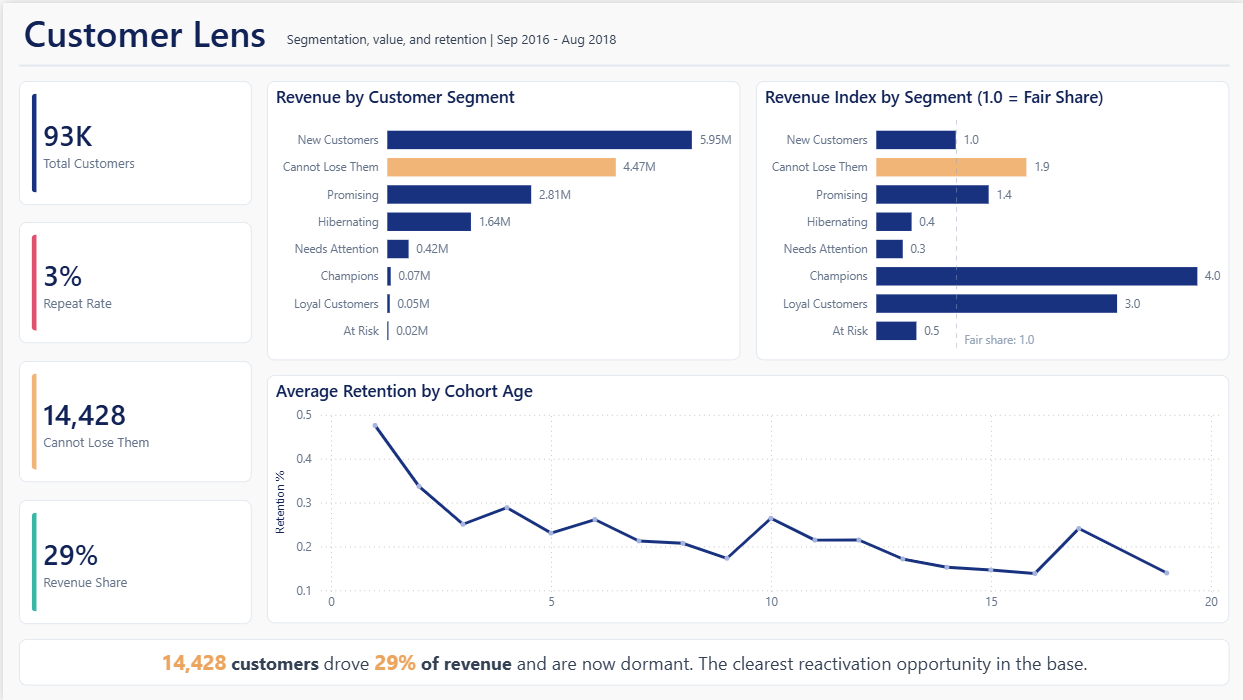

What the dashboard file says about the page in this screenshot:
{"tool":"powerbi","page":{"name":"Customer Lens","canvas":[1280,720],"ordinal":1},"visuals":[{"type":"textbox","box":[16,0,272,64],"z":0},{"type":"textbox","box":[288,24,448,32],"z":1000},{"type":"shape","box":[16,48,1248,32],"z":2000},{"type":"cardVisual","fields":{"Data":["Sum(agg_marketplace_kpis.Total Customers)"]},"box":[16,80,240,128],"z":3000},{"type":"cardVisual","fields":{"Data":["All Measures.CLT Revenue Share"]},"box":[16,512,240,128],"z":4000},{"type":"cardVisual","fields":{"Data":["All Measures.Repeat Rate Display"]},"box":[16,226,240,125],"z":5000},{"type":"cardVisual","fields":{"Data":["Sum(agg_segment_clv.Customers)"]},"box":[16,369,240,125],"z":6000},{"type":"clusteredBarChart","title":"Revenue by Customer Segment","fields":{"Category":["agg_segment_clv.Segment"],"Y":["Sum(agg_segment_clv.Total Revenue)"]},"box":[272,80,488,288],"z":7000},{"type":"clusteredBarChart","title":"Revenue Index by Segment (1.0 = Fair Share)","fields":{"Category":["agg_segment_clv.Segment"],"Y":["Sum(agg_segment_clv.Revenue Index)"]},"box":[776,80,488,288],"z":8000},{"type":"lineChart","title":"Average Retention by Cohort Age","fields":{"Category":["cohort_retention_long.Months Since First"],"Y":["Avg(cohort_retention_long.Retention)"]},"box":[272,384,992,256],"z":9000},{"type":"textbox","box":[16,656,1248,48],"z":10000}]}

Visuals, with their boxes in screenshot pixels (x1, y1, x2, y2), scaled from the page's 1280x720 canvas onto the 1243x700 screenshot:
textbox: box(16, 0, 280, 62)
textbox: box(280, 23, 715, 54)
shape: box(16, 47, 1227, 78)
cardVisual - Sum(agg_marketplace_kpis.Total Customers): box(16, 78, 249, 202)
cardVisual - All Measures.CLT Revenue Share: box(16, 498, 249, 622)
cardVisual - All Measures.Repeat Rate Display: box(16, 220, 249, 341)
cardVisual - Sum(agg_segment_clv.Customers): box(16, 359, 249, 480)
"Revenue by Customer Segment" clusteredBarChart: box(264, 78, 738, 358)
"Revenue Index by Segment (1.0 = Fair Share)" clusteredBarChart: box(754, 78, 1227, 358)
"Average Retention by Cohort Age" lineChart: box(264, 373, 1227, 622)
textbox: box(16, 638, 1227, 684)
